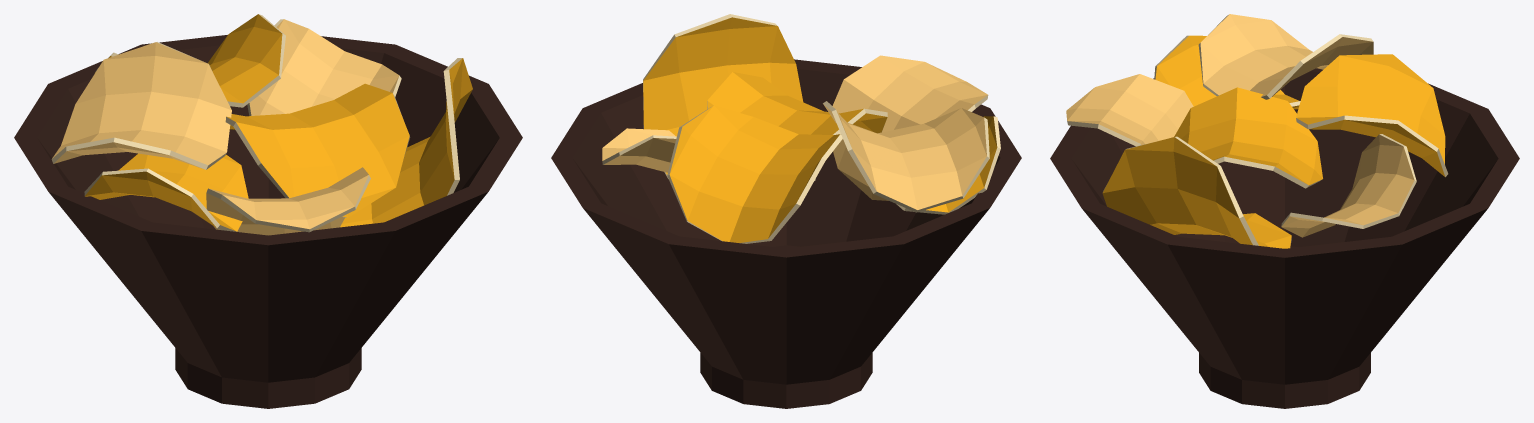
File: potatoChips.FBX
3 views of the same model, side by side, from view 1: azimuth 30°, elevation 25°; view 2: azimuth 150°, elevation 25°; view 3: azimuth 270°, elevation 25° (orthographic). The views are drawn at different scales.
Visible parts, largest first — view 1: potatoChips; view 2: potatoChips; view 3: potatoChips.
Boxes of the visible parts, left/top/right/bottom form: potatoChips: left=14, top=14, right=522, bottom=408; potatoChips: left=551, top=14, right=1021, bottom=408; potatoChips: left=1050, top=14, right=1519, bottom=408.
Bounding box in the file's own units: 2.59 × 1.83 × 2.59.
